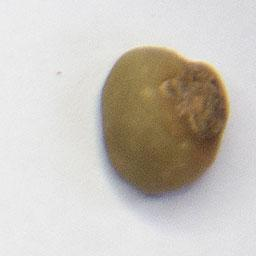defect: (98, 45, 231, 199)
